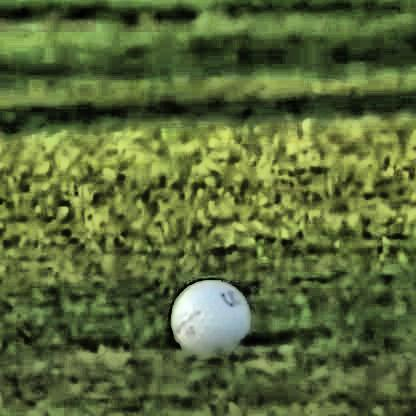golfball: (165, 276, 248, 356)
